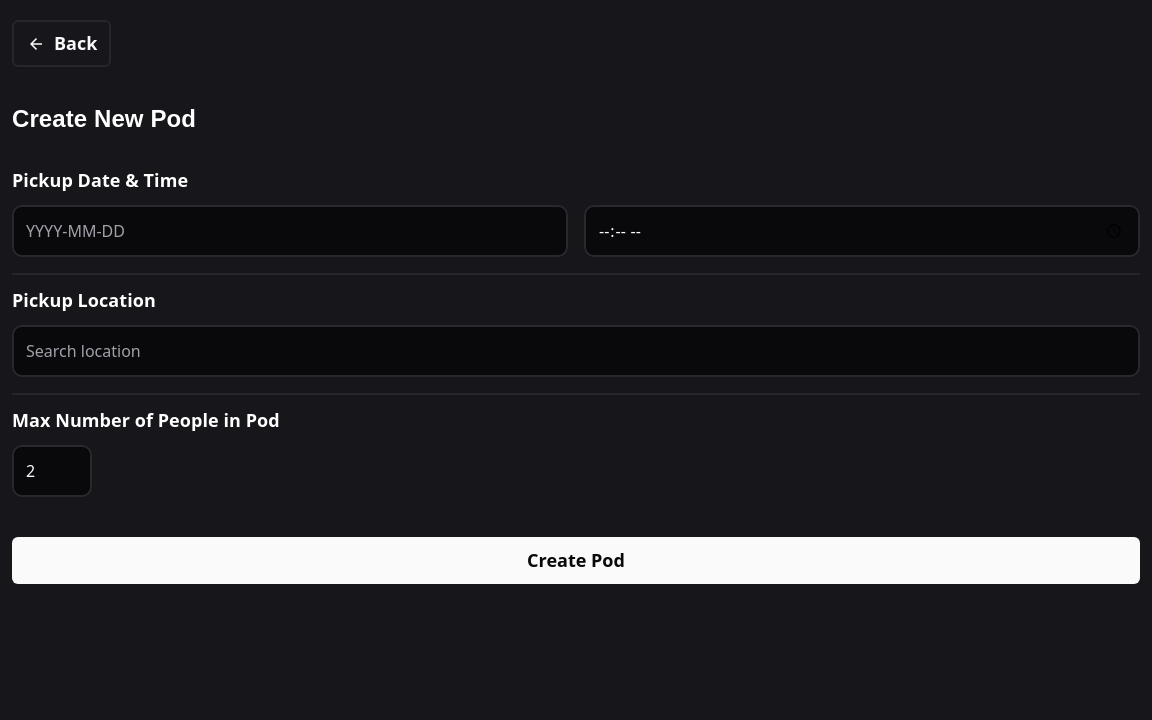
Scenario: CreatePodScreen › Calendar Interaction › opens calendar dialog when date input is clicked
Click the field with placeholder "YYYY-MM-DD".
click(290, 231)  # box [12,205,568,257]
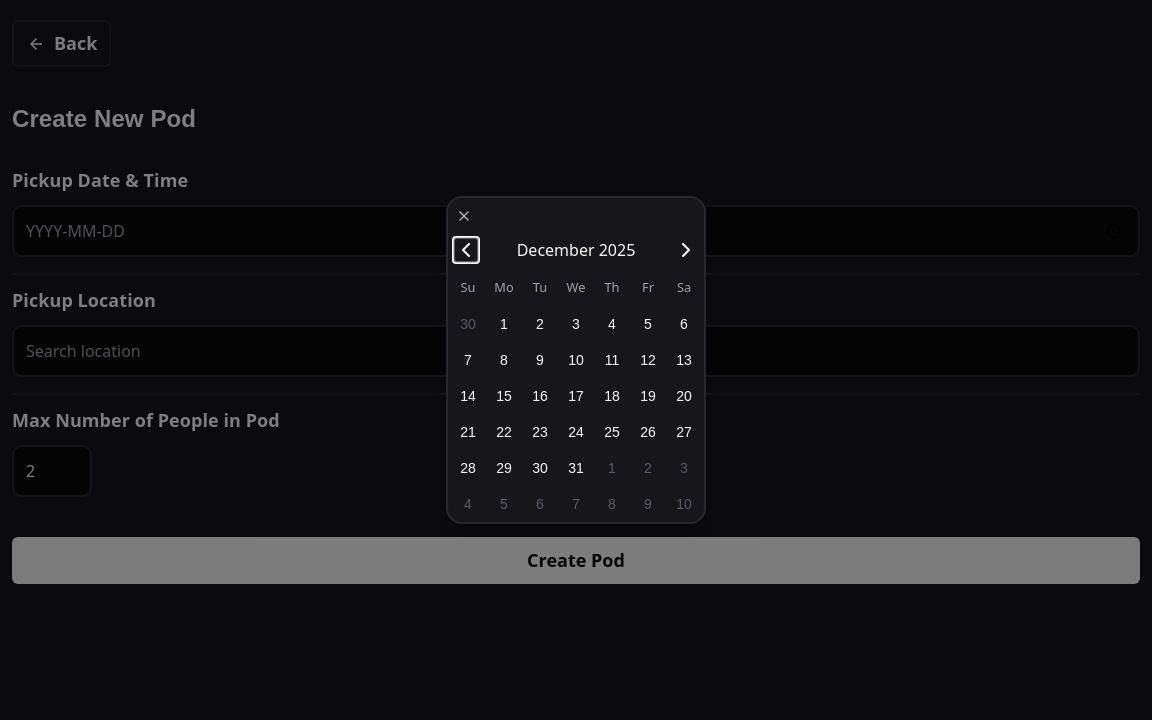
Expected: the element that starts with "December" is shown, [448,198,704,522]
